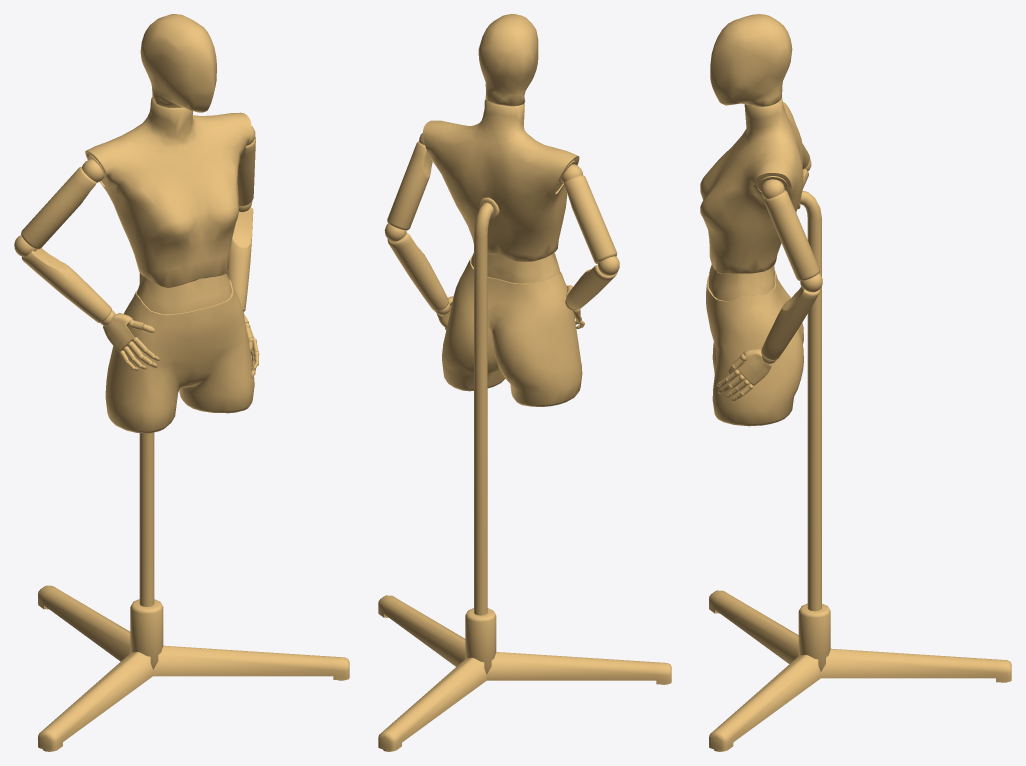
Rendered from Mannequin_1_1.fbx.
3 views of the same model, side by side, from view 1: azimuth 30°, elevation 25°; view 2: azimuth 150°, elevation 25°; view 3: azimuth 270°, elevation 25° (orthographic). The views are drawn at different scales.
Visible parts, largest first — view 1: SM_Mannequin_1_1; view 2: SM_Mannequin_1_1; view 3: SM_Mannequin_1_1.
Part boxes in pixels (box(x1,y1,x2,y2)): SM_Mannequin_1_1: box(14, 14, 349, 751); SM_Mannequin_1_1: box(378, 14, 671, 751); SM_Mannequin_1_1: box(700, 14, 1011, 751).
Bounding box in the file's own units: 82.09 × 172 × 73.46.
